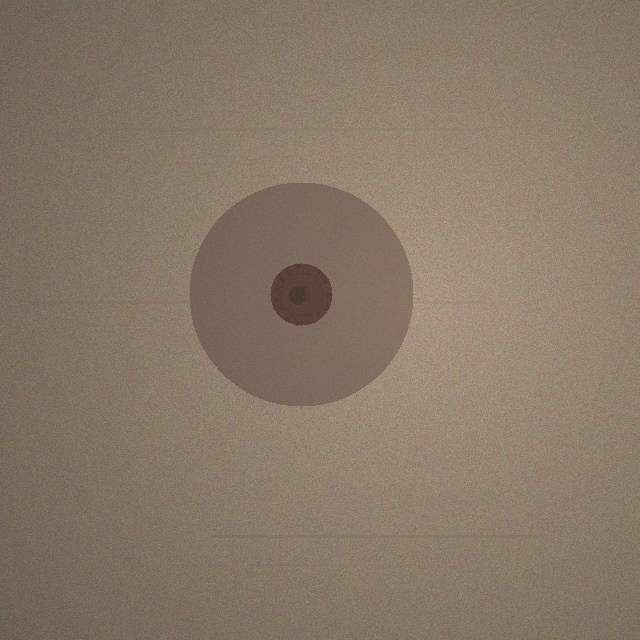cold_weld: (189, 182, 413, 406)
